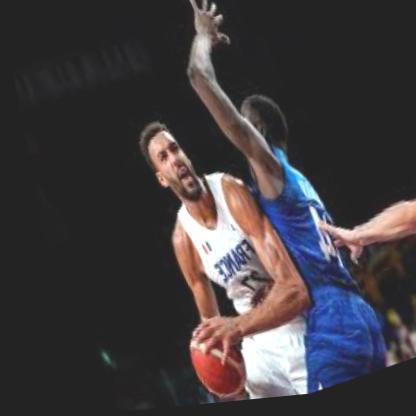basketball: (162, 317, 243, 407)
